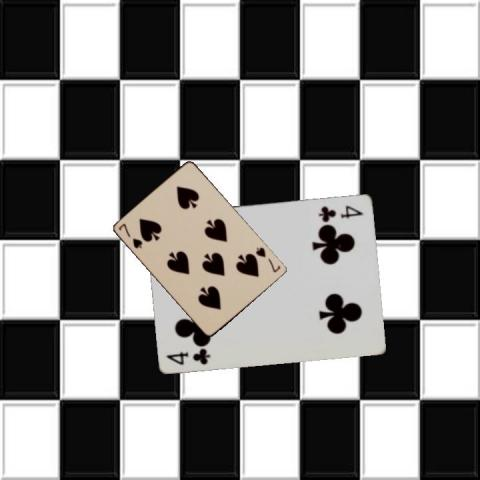4c: (163, 345, 212, 366), (315, 202, 365, 222)
7s: (253, 244, 282, 274), (116, 221, 144, 250)
